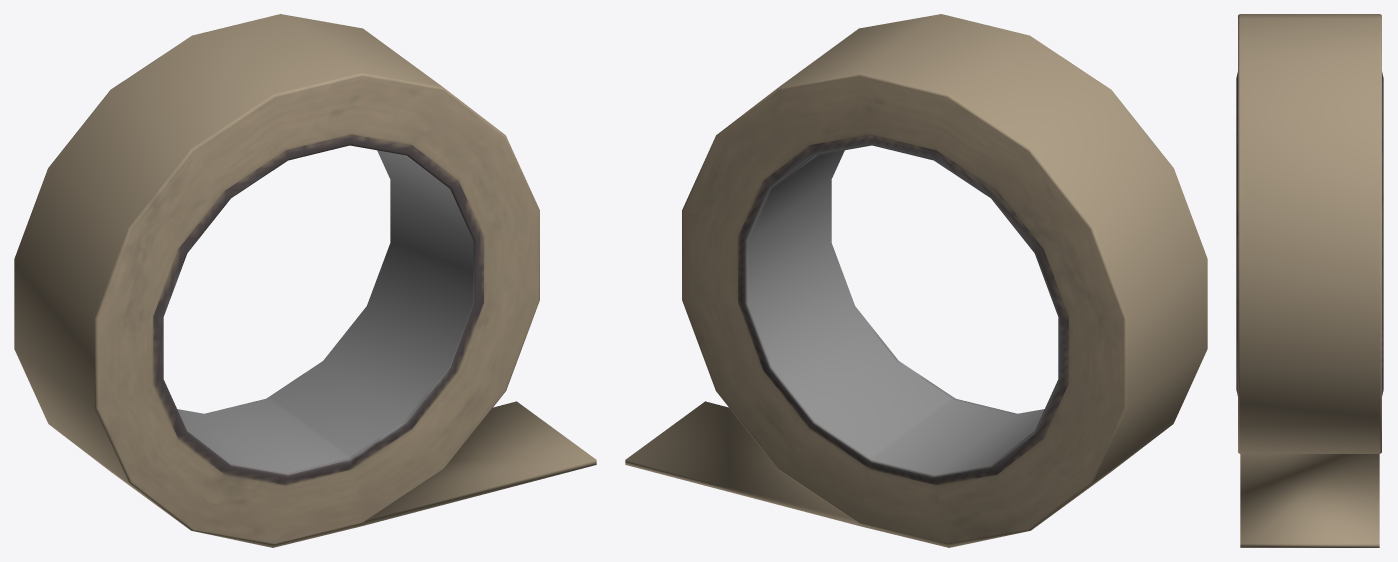
The model's file is tape.fbx.
3 renders of one model, left to right at view 1: azimuth 30°, elevation 25°; view 2: azimuth 150°, elevation 25°; view 3: azimuth 270°, elevation 25°, orthographic. The views are drawn at different scales.
Parts seen in each view (by area): view 1: SM_brown_tape; view 2: SM_brown_tape; view 3: SM_brown_tape.
Part boxes in pixels (<box>): SM_brown_tape: <box>14,14,596,547</box>; SM_brown_tape: <box>625,14,1207,547</box>; SM_brown_tape: <box>1236,14,1383,547</box>.
Size of the model in its own units: 0.1166 by 0.1006 by 0.034.
